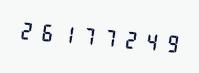four: (137, 23, 156, 57)
nine: (157, 25, 176, 59)
one: (57, 16, 76, 50)
seven: (97, 19, 116, 54), (77, 18, 96, 52)
six: (37, 14, 56, 49)
two: (17, 12, 36, 47), (117, 21, 136, 56)
